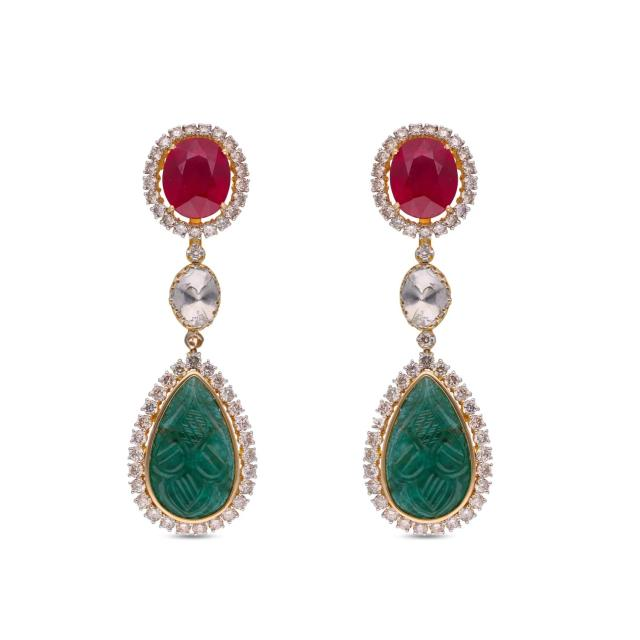missing gem: (184, 331, 203, 350), (371, 415, 384, 430)
